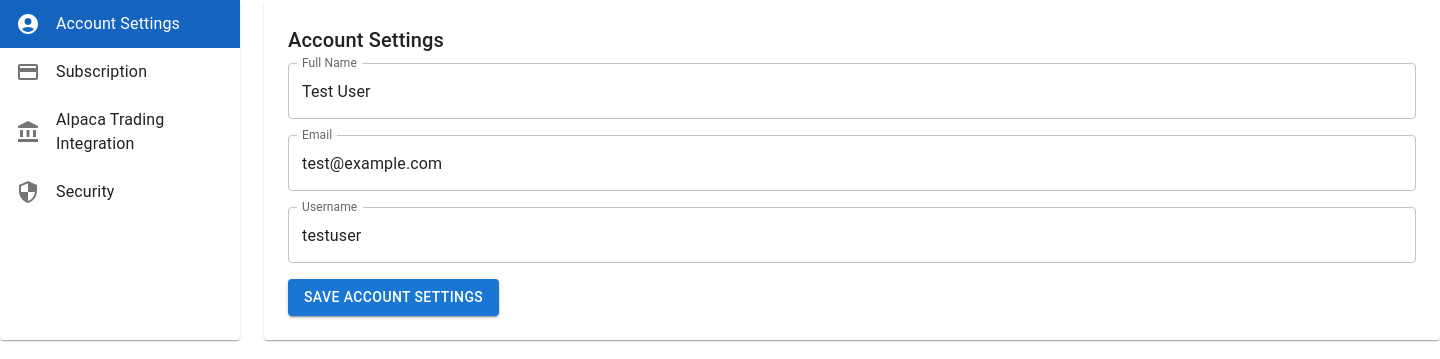
Test: Settings Component › Navigation Menu › switches to Security section when clicked
Step 1. Click the button "Security" → (65, 192), box [16,180,114,204]
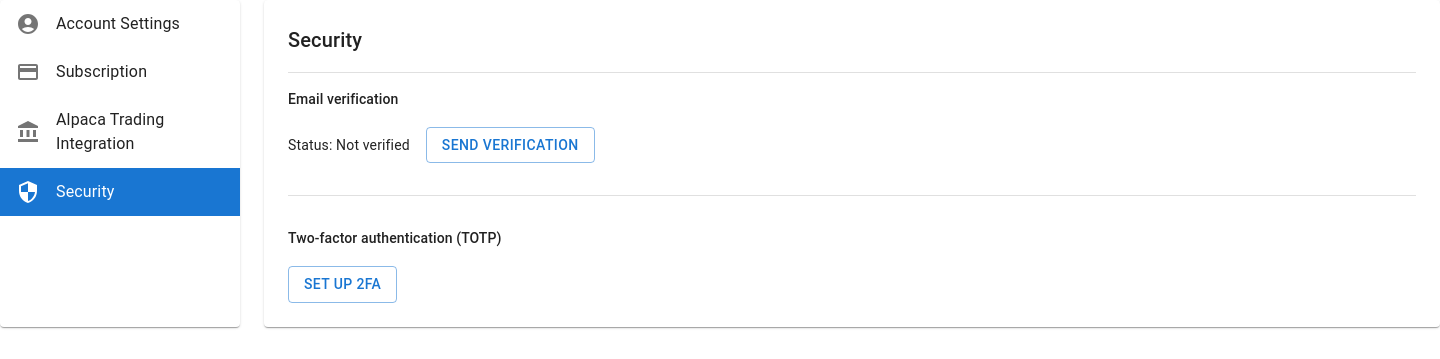
Now the heading "Email verification" is shown, box [288,91,398,107]
Now the heading "Two-factor authentication (TOTP)" is shown, box [288,230,502,246]
Now the label labelled "Full Name" is gone
